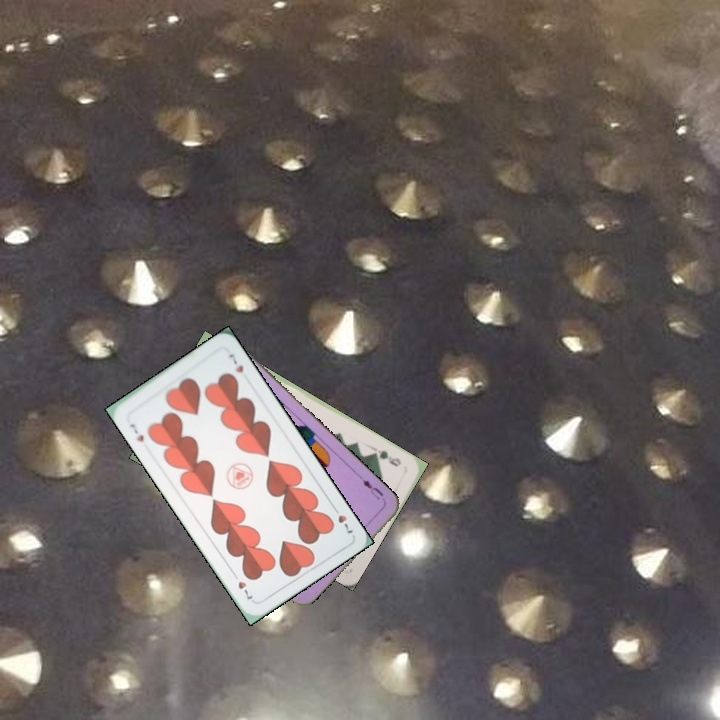EU: (356, 473, 386, 502)
G9: (369, 444, 404, 469)
H7: (328, 501, 355, 538), (124, 420, 146, 444)
